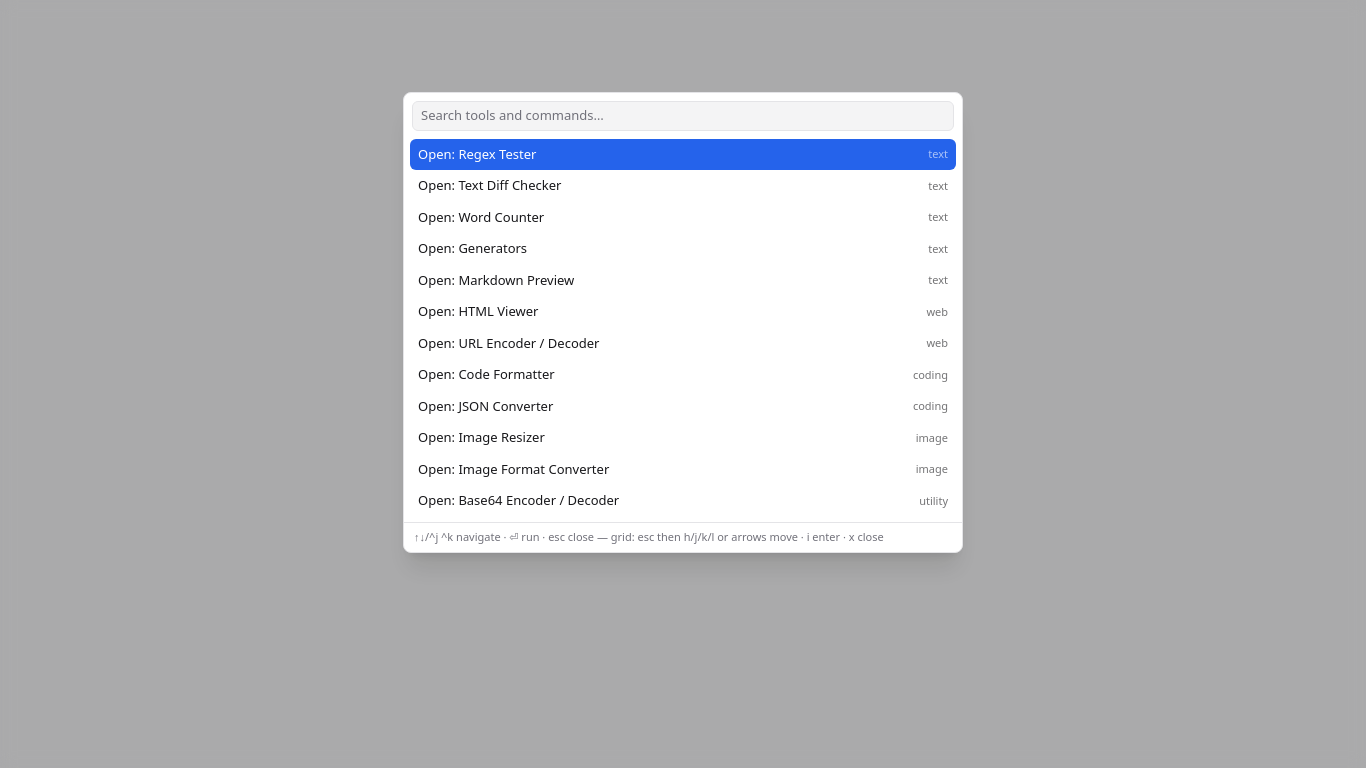
Scenario: CommandPalette › lists switch-layout commands for saved layouts
Type "switch" into the field with placeholder "Search tools and commands…".
click(683, 116); type("switch")  # box [412,101,954,131]
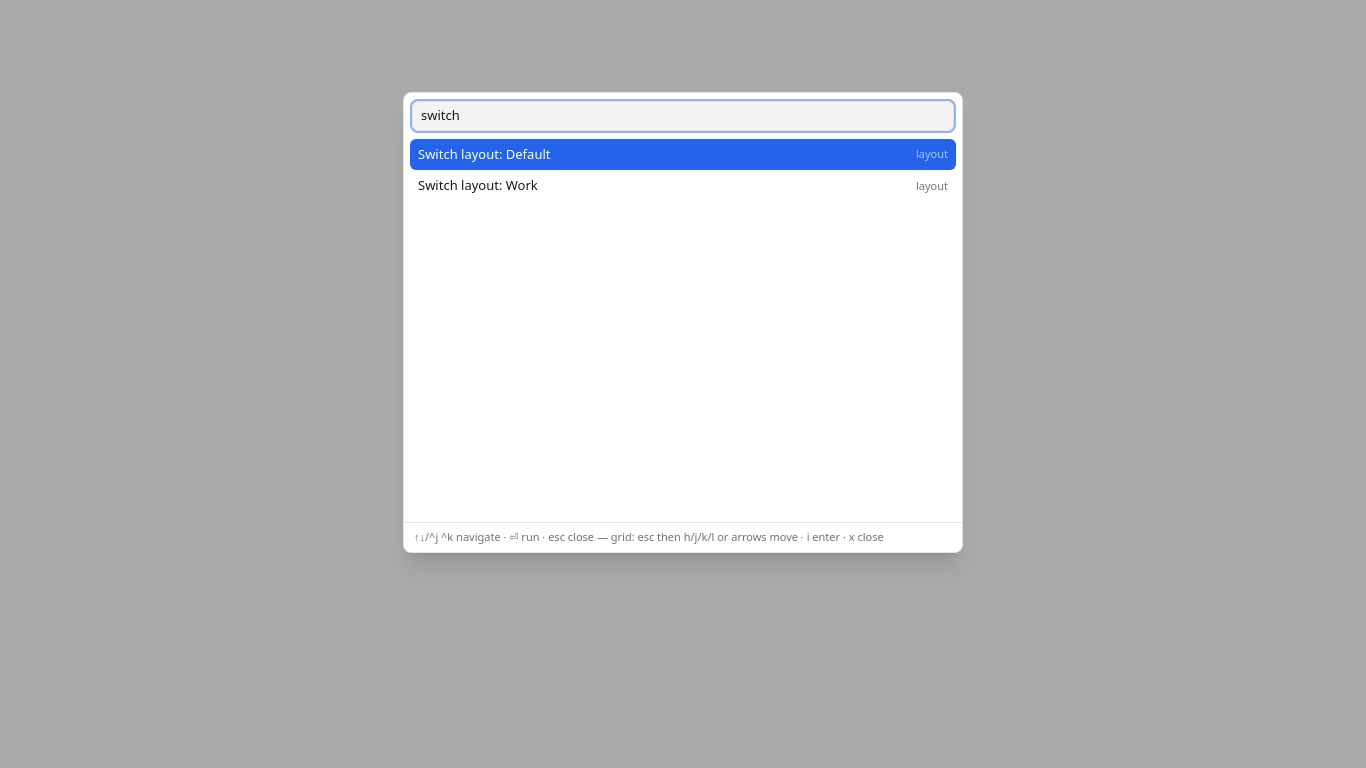
Check: the text "Switch layout: Default" is shown, box [418,145,550,164]
Check: the text "Switch layout: Work" is shown, box [418,176,538,196]
